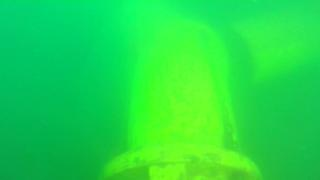pipe: (102, 22, 263, 179), (226, 8, 320, 86)
